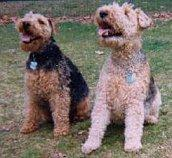wire-haired_fox_terrier: (79, 1, 163, 157), (12, 11, 90, 140)
